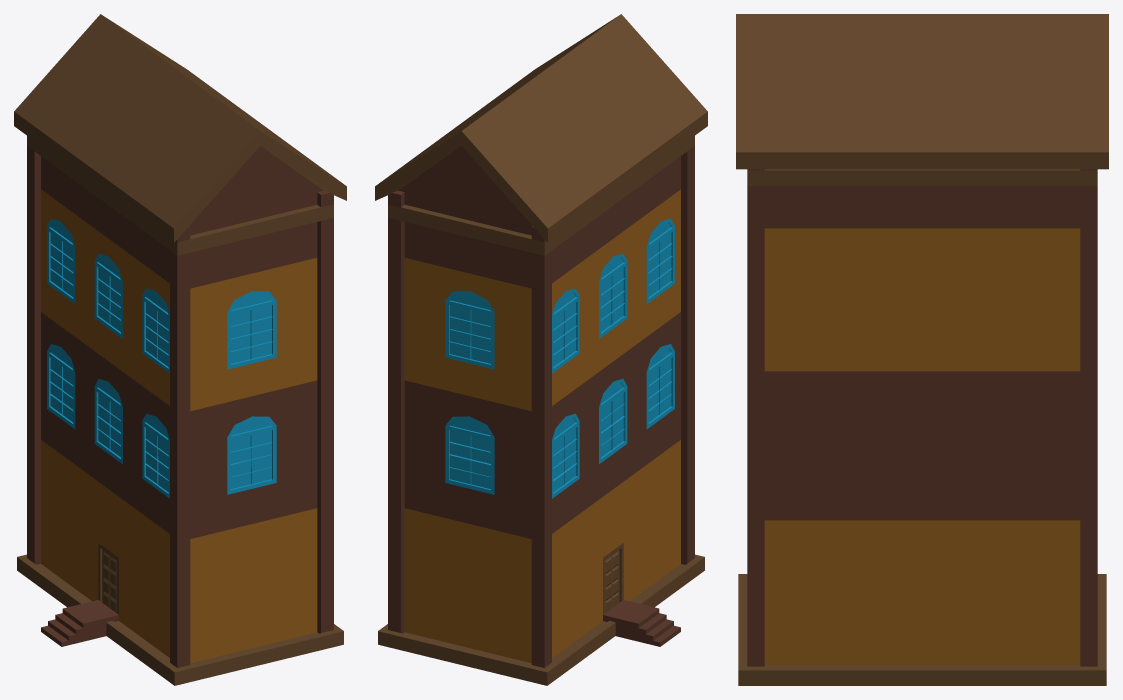
File: Long House.fbx
3 views of the same model, side by side, from view 1: azimuth 30°, elevation 25°; view 2: azimuth 150°, elevation 25°; view 3: azimuth 270°, elevation 25° (orthographic). The views are drawn at different scales.
Visible parts, largest first — view 1: building_005; view 2: building_005; view 3: building_005.
Boxes of the visible parts, box(x1,y1,x2,y2) form: building_005: box(14, 14, 346, 685); building_005: box(375, 14, 707, 685); building_005: box(736, 14, 1108, 685).
Size of the model in its own units: 601 by 1426 by 772.
